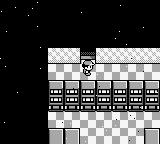main: (82, 61, 95, 75)
no-caminable: (1, 2, 159, 143), (48, 81, 160, 112), (96, 48, 159, 63), (65, 128, 80, 144), (49, 128, 64, 144), (145, 129, 160, 144)
puerta: (80, 48, 96, 63)
